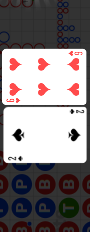10H: (66, 51, 83, 58)
AC: (68, 108, 85, 115)
